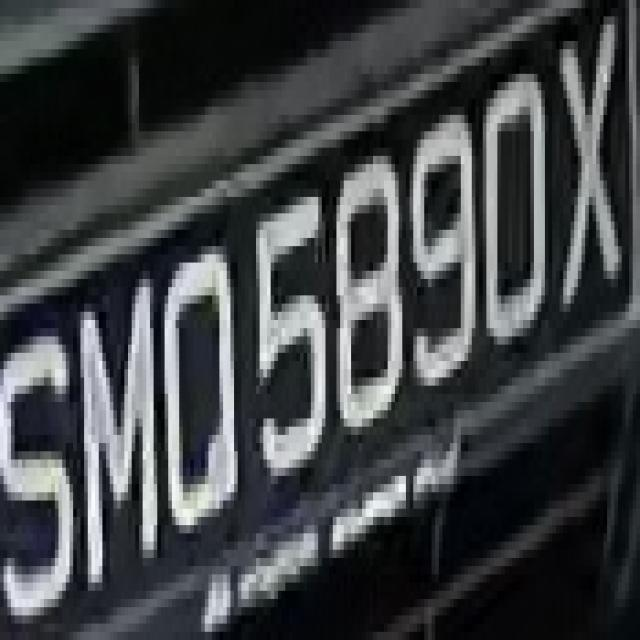0: (472, 58, 556, 386)
5: (252, 180, 329, 500)
8: (326, 148, 414, 460)
9: (402, 90, 479, 427)
M: (80, 279, 164, 583)
Q: (150, 238, 249, 558)
S: (4, 287, 80, 640)
X: (556, 17, 625, 328)
